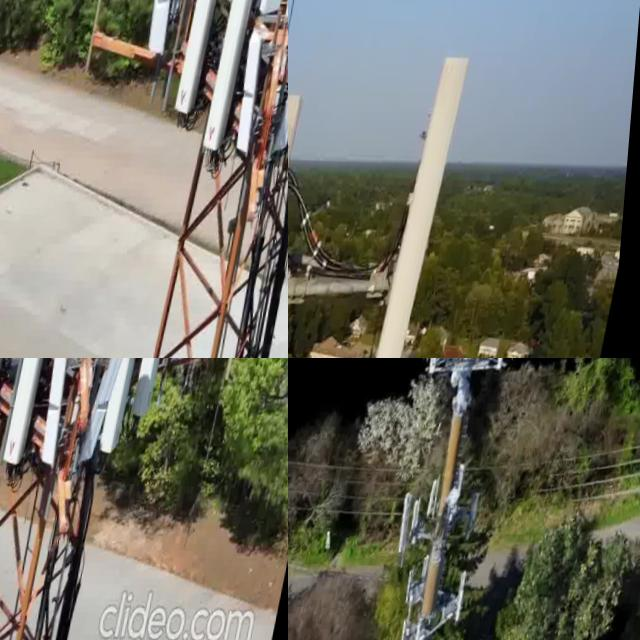GSM Antenna: (383, 56, 475, 358), (202, 0, 270, 176), (175, 0, 239, 129), (4, 358, 69, 482), (231, 26, 281, 168), (100, 358, 164, 464), (40, 358, 87, 475), (133, 358, 198, 437), (138, 0, 189, 65), (0, 358, 35, 443), (395, 490, 424, 563), (288, 93, 311, 184), (455, 572, 479, 632), (423, 477, 449, 529), (472, 495, 488, 547), (453, 470, 473, 511), (261, 0, 288, 27), (407, 572, 424, 610), (425, 358, 451, 380), (424, 550, 436, 592), (495, 358, 515, 375), (402, 621, 418, 640)
